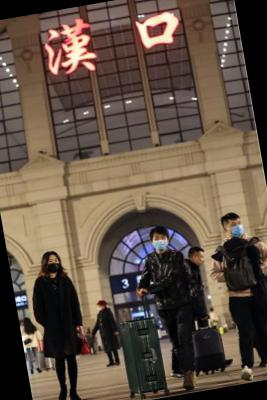with_mask: (226, 219, 246, 238), (152, 233, 170, 252), (46, 258, 61, 274)
without_mask: (196, 254, 206, 267)
